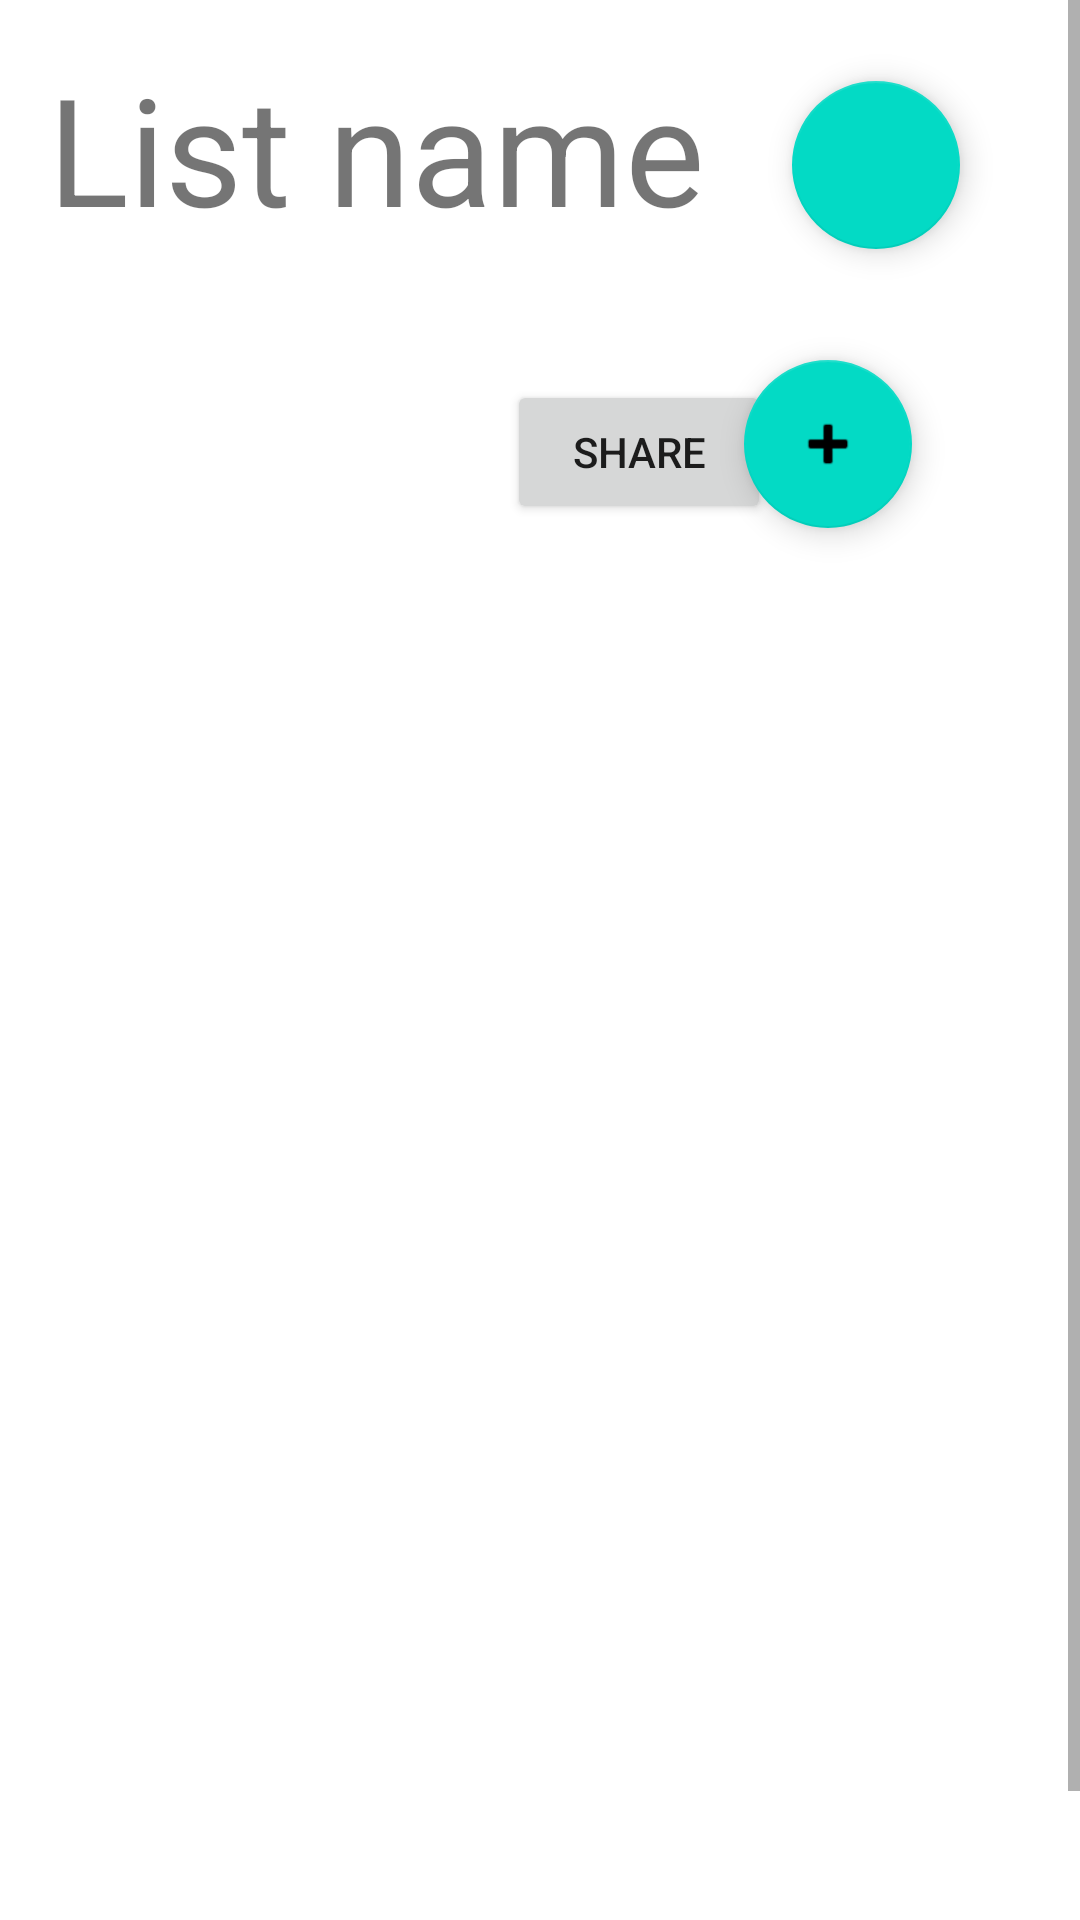

Point at icon controls on the screen. Image size 1080 × 1920, points as [x,y].
add: [828,444]
